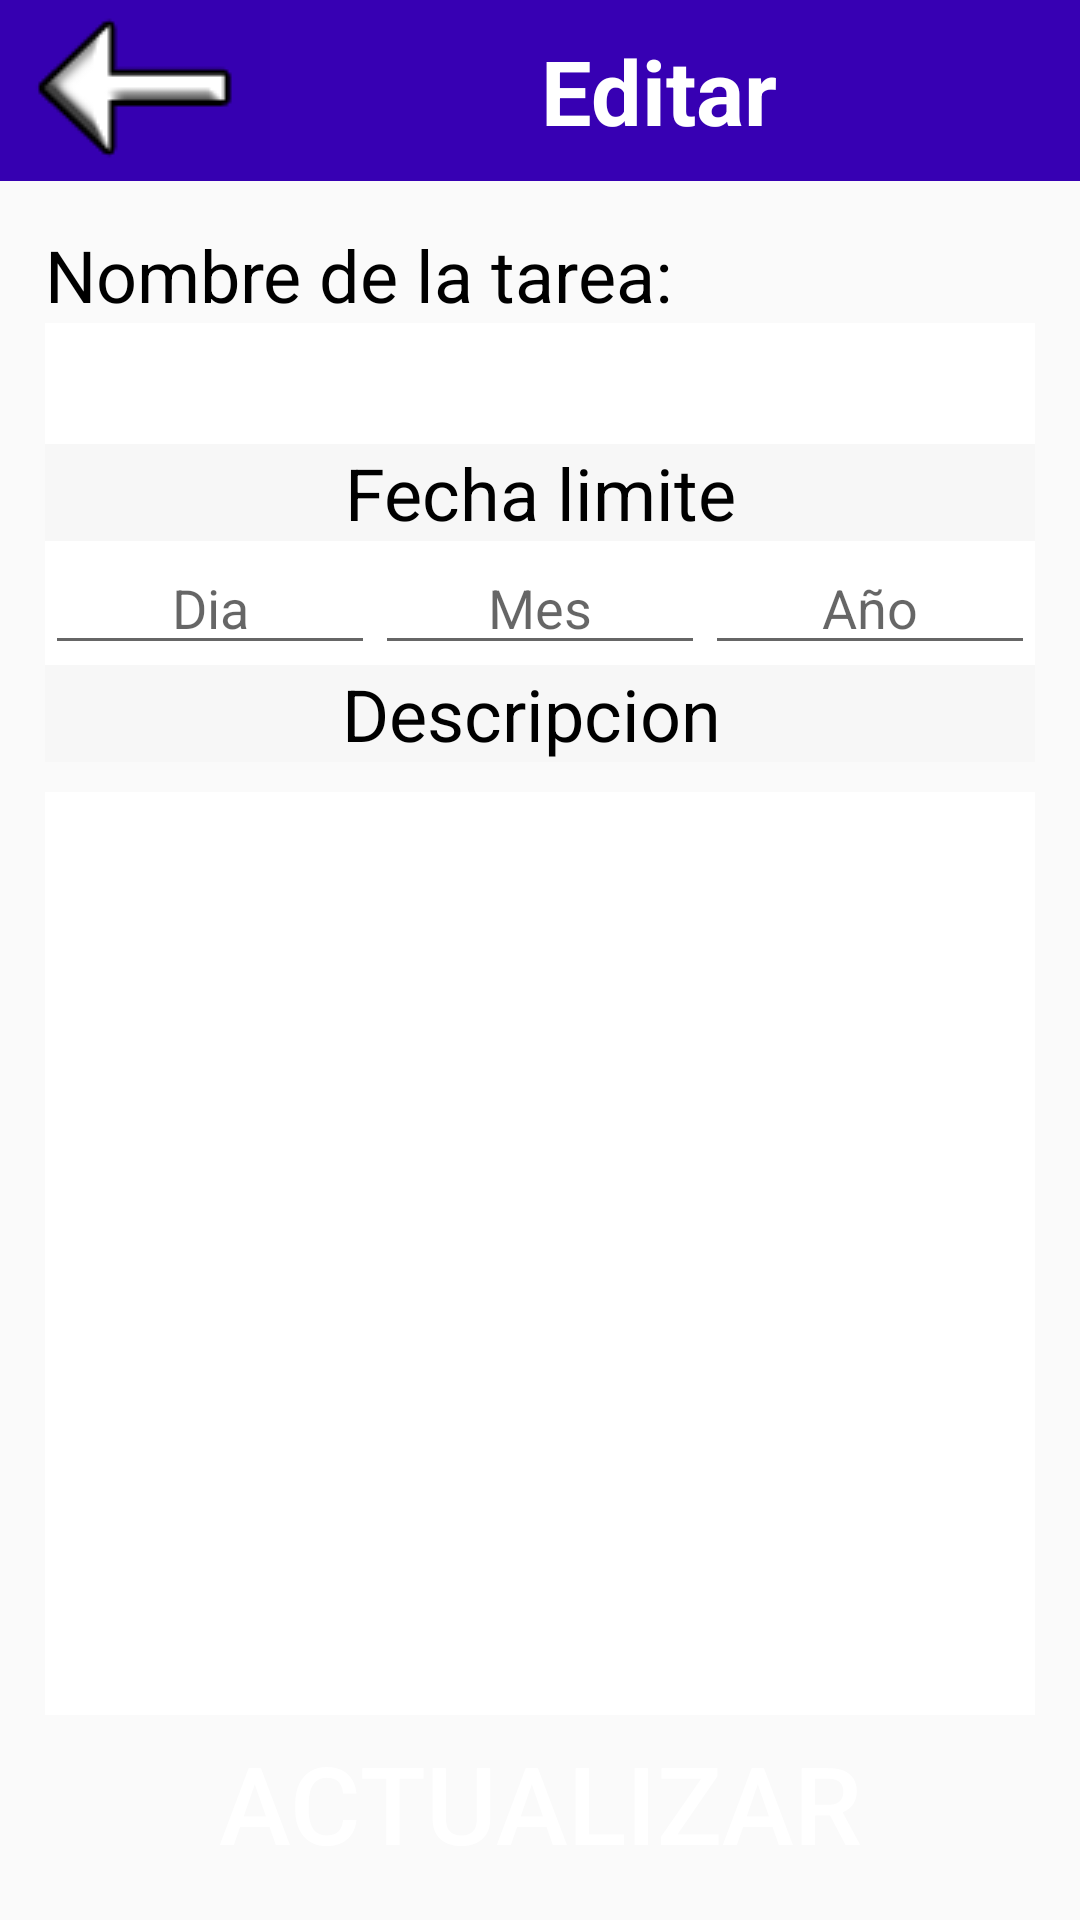

Icons on this 1080w x 1920h Android screen, each with the point to tap as [x,y]:
backeste: [135,88]
